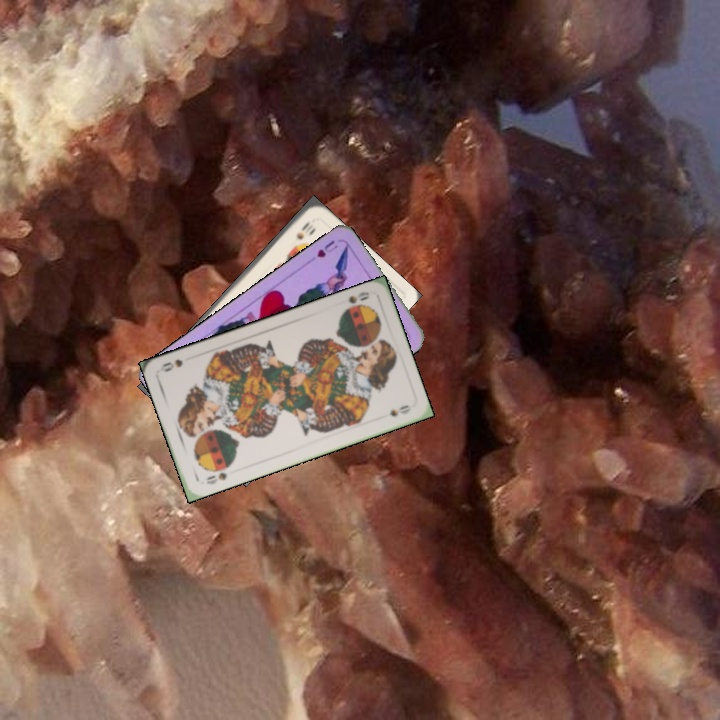HU: (313, 236, 340, 260)
S10: (292, 217, 316, 242)
SO: (337, 287, 371, 315), (203, 468, 229, 487)
